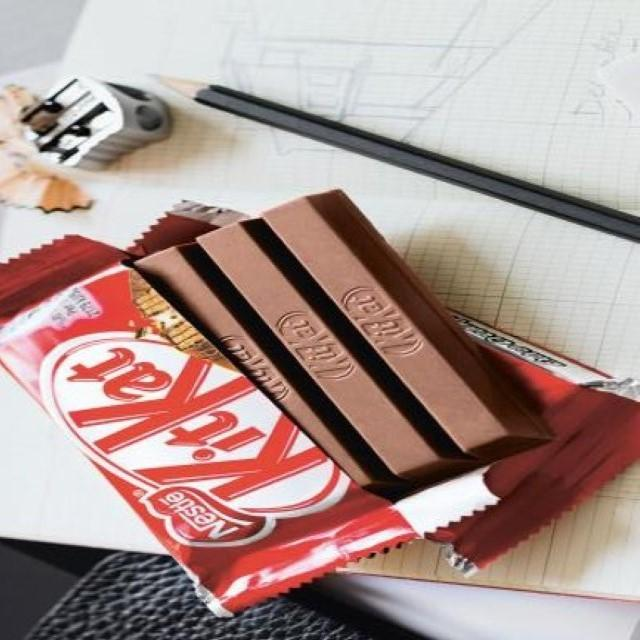kitkat_chocolate: (58, 325, 342, 568)
